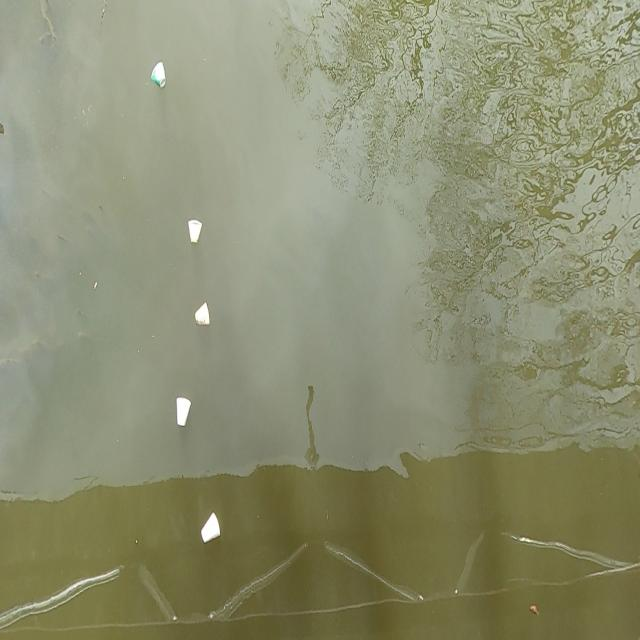Autre plastique: (202, 514, 220, 542), (177, 396, 191, 425), (152, 61, 167, 88), (194, 303, 210, 327), (189, 217, 202, 243)
